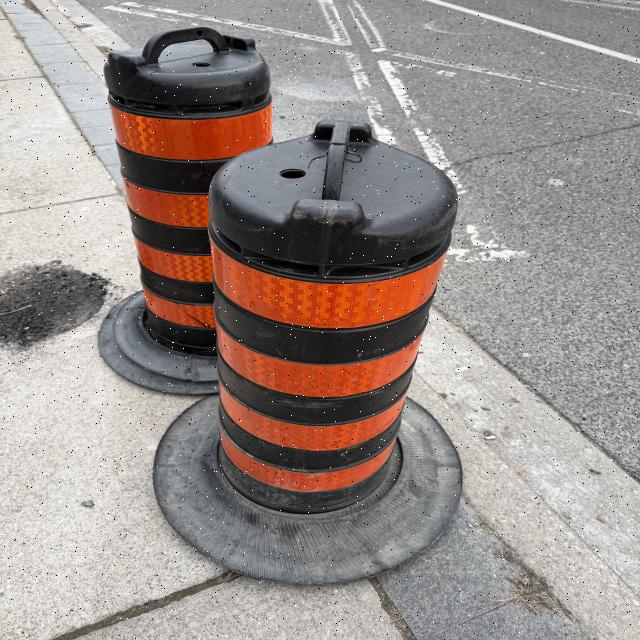Teraffic Barrel: (155, 121, 461, 584), (99, 27, 272, 393)
